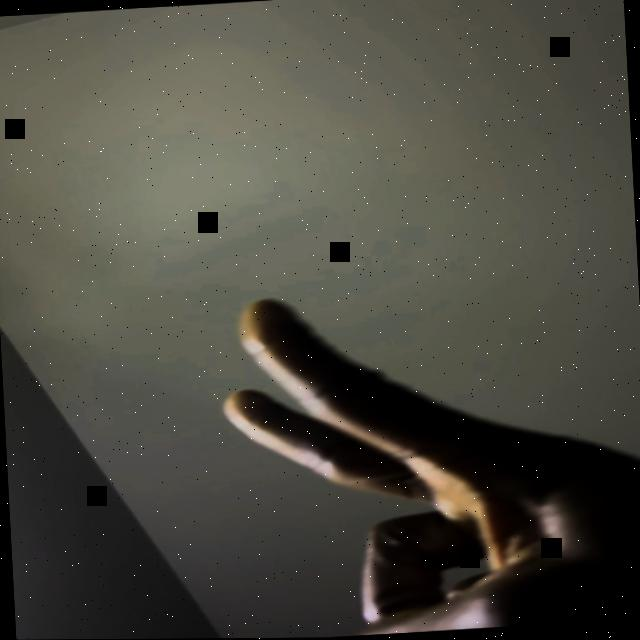Scissors: (216, 275, 640, 639)
